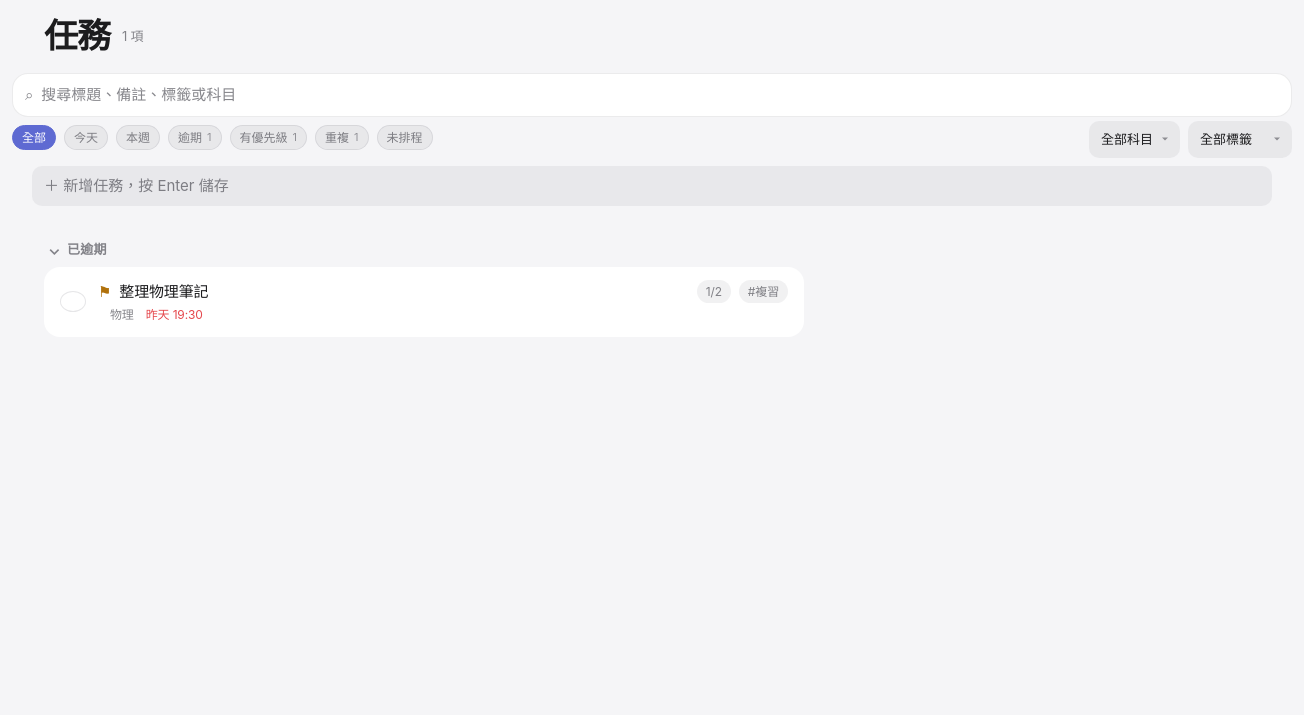
it: 複製任務 › POST 與確認讀取都失敗時鎖住重送，重新載入後才解除
Click the text "整理物理筆記": (164, 291) top-left (119, 282), bottom-right (208, 301)
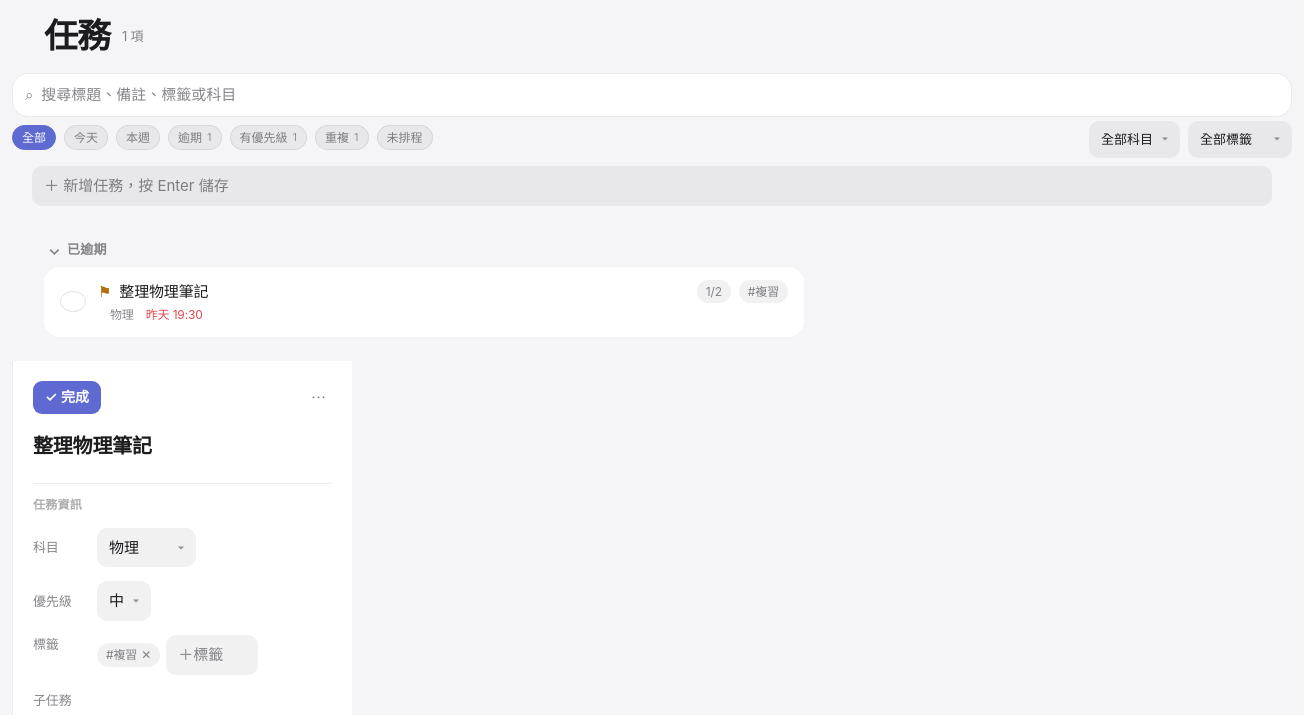
Click the button named "更多": (318, 398) top-left (305, 381), bottom-right (332, 414)
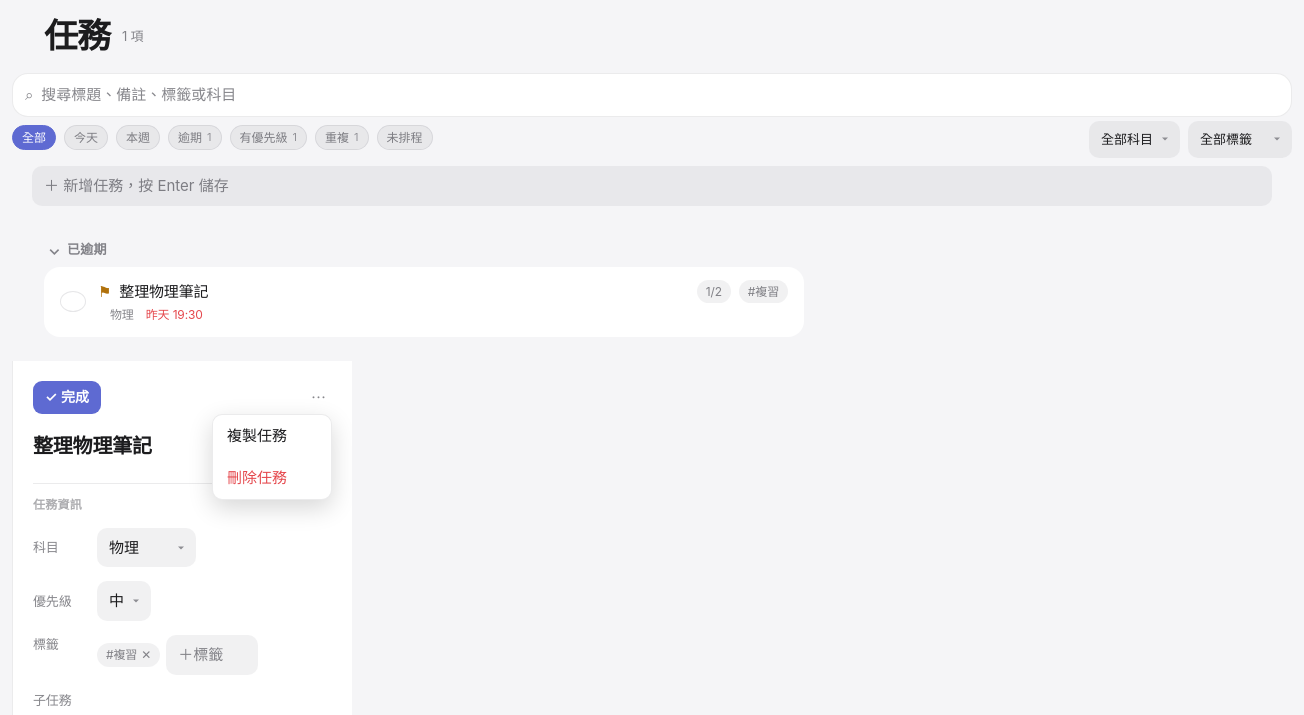
Click the menu item "複製任務": (272, 436) top-left (213, 415), bottom-right (331, 457)
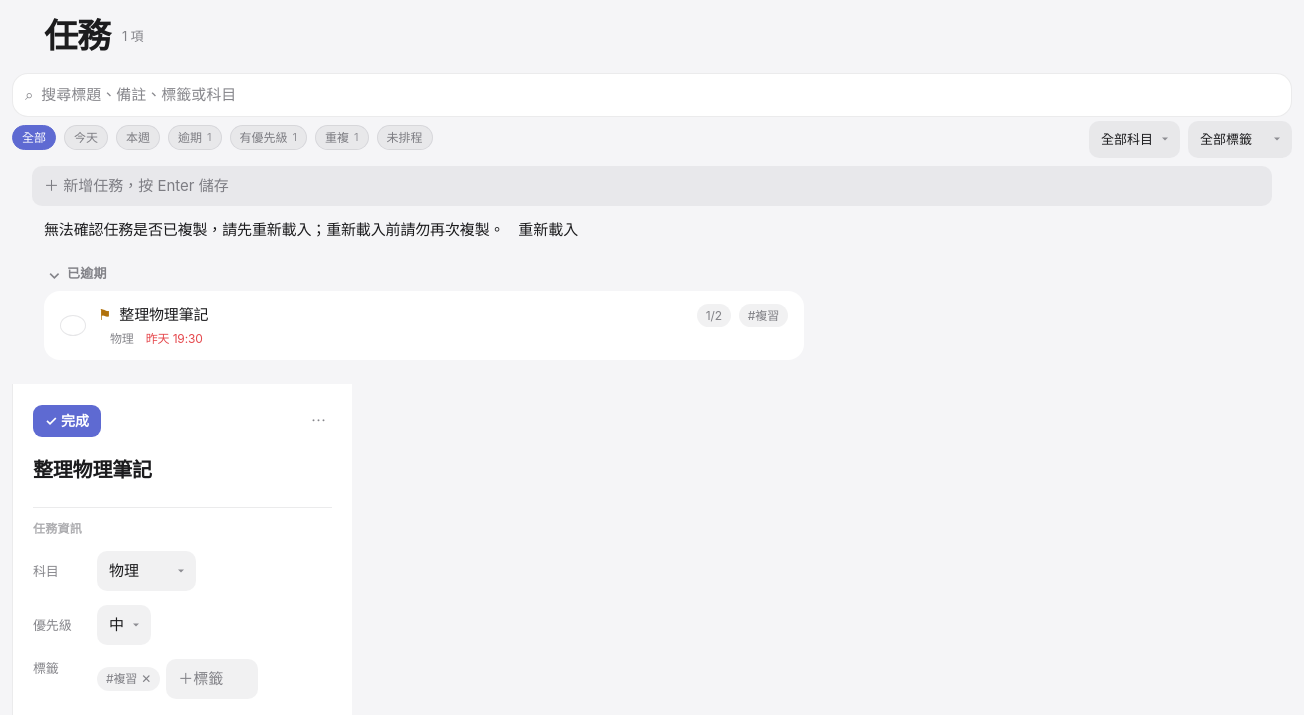
Expected: the message shows "無法確認任務是否已複製", top-left (44, 220), bottom-right (504, 239)
Click the button named "更多": (318, 421) top-left (305, 404), bottom-right (332, 438)
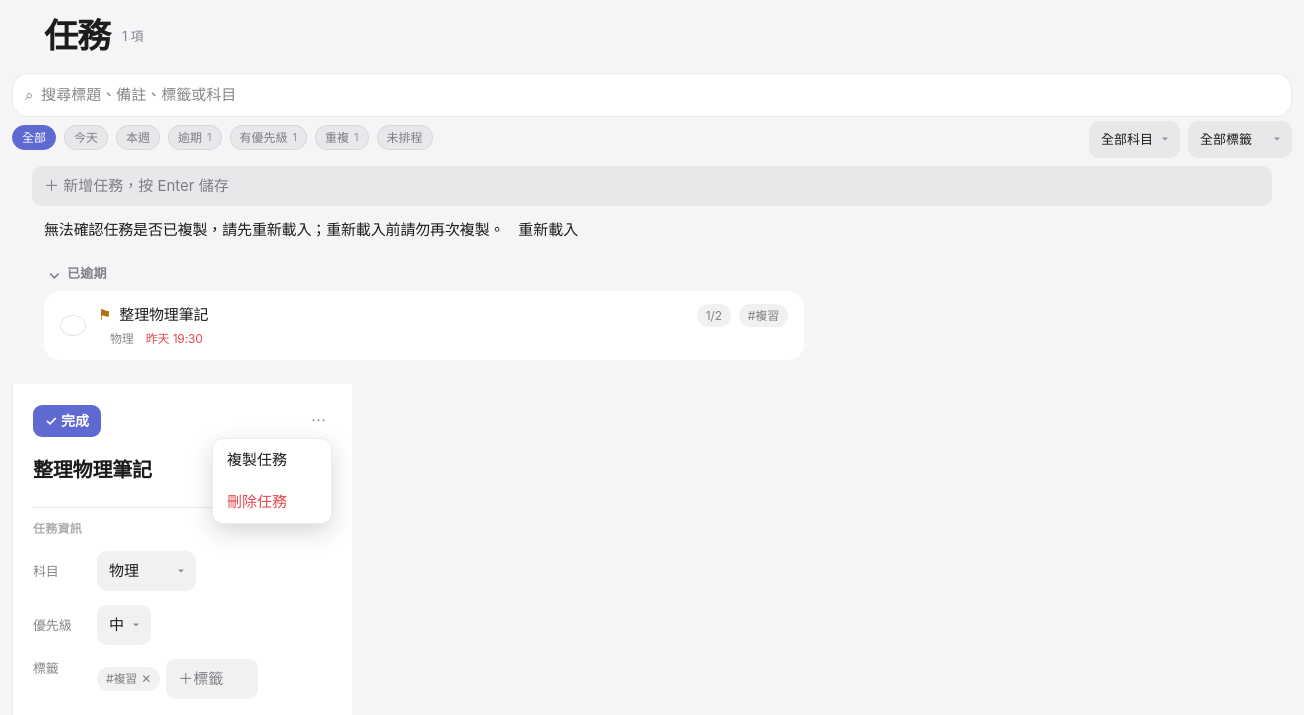
Click the menu item "複製任務": (272, 460) top-left (213, 439), bottom-right (331, 481)
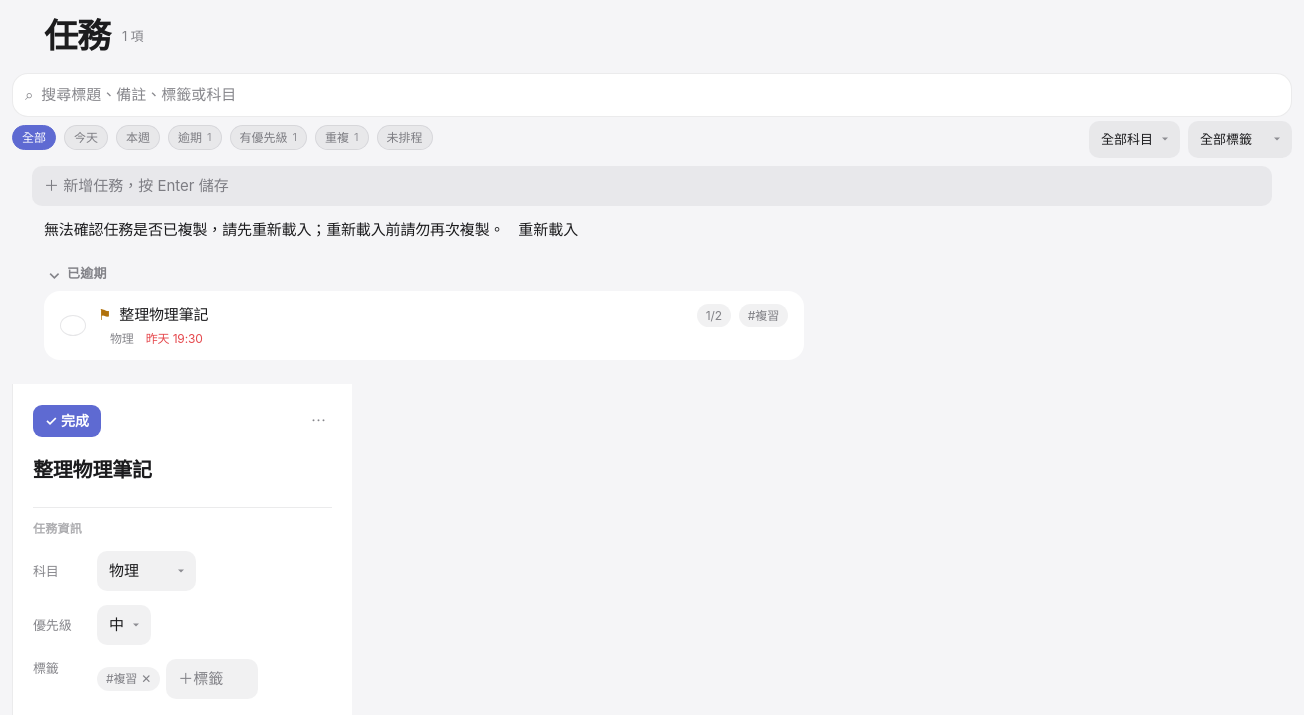
Click the button "重新載入": (548, 230) top-left (512, 218), bottom-right (584, 242)
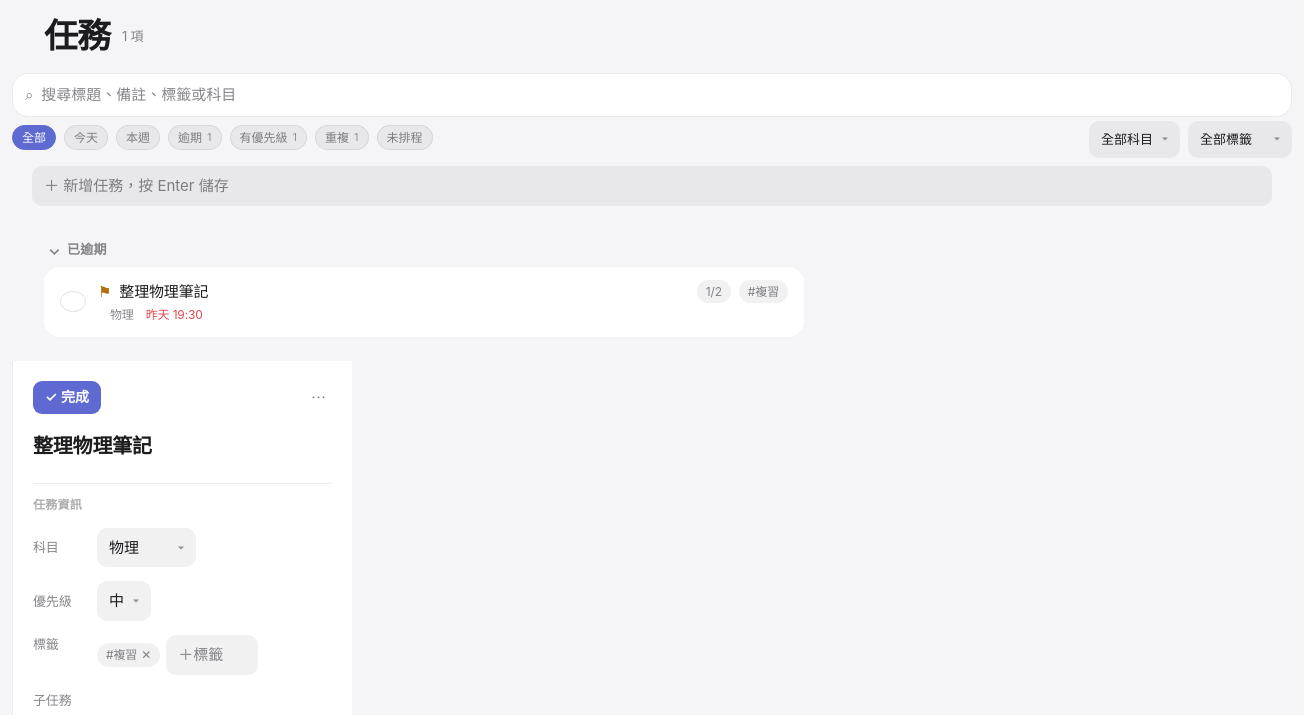
Expected: the message "無法確認任務是否已複製，請先重新載入；重新載入前請勿再次複製。 重新載入" is gone
